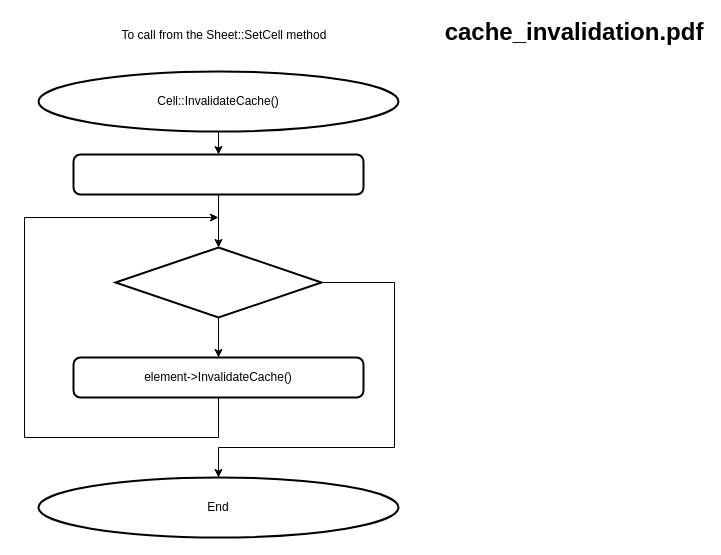
Image size: 721x555. Some labels were removed from this diagram. Here are the shapes that lost their labels. From the top down, the centre of each, then its label:
At (x=218, y=174): "this->cache_.reset()".
At (x=218, y=282): "For each element of this->dependents_".
